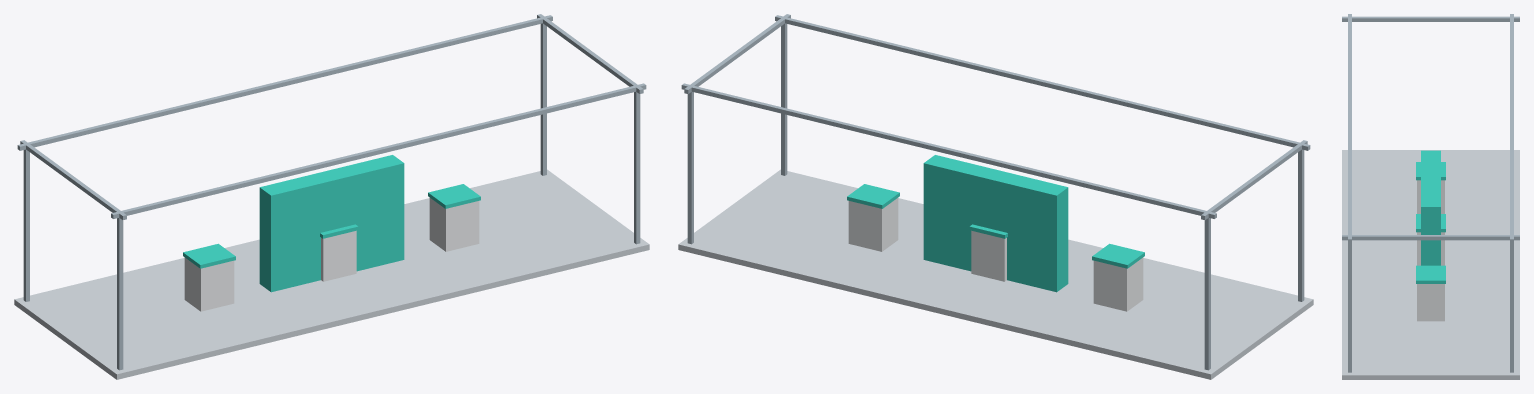
The picture shows the model from 3 angles, left to right: view 1: azimuth 30°, elevation 25°; view 2: azimuth 150°, elevation 25°; view 3: azimuth 270°, elevation 25°; orthographic projection. The views are drawn at different scales.
Parts seen in each view (by area): view 1: Exhibition Booth Concept; view 2: Exhibition Booth Concept; view 3: Exhibition Booth Concept.
Boxes of the visible parts, left/top/right/bottom form: Exhibition Booth Concept: left=14, top=14, right=649, bottom=379; Exhibition Booth Concept: left=678, top=14, right=1313, bottom=379; Exhibition Booth Concept: left=1342, top=14, right=1519, bottom=379.
Bounding box in the file's own units: 12 × 3.49 × 4.
